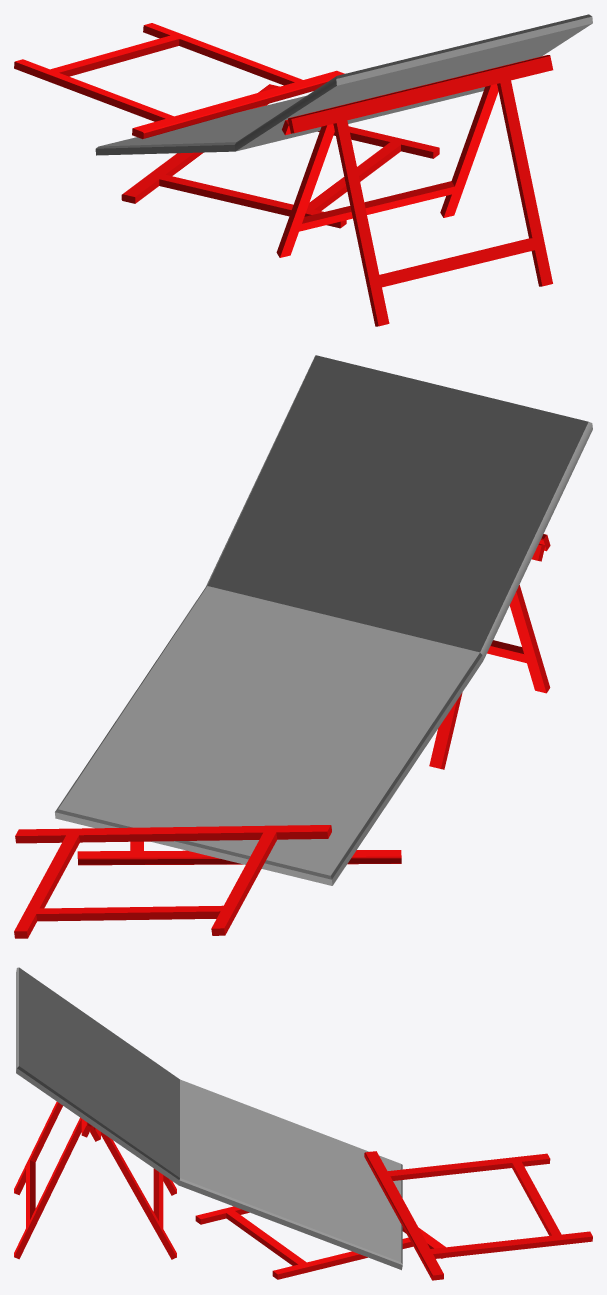
The model's file is FBX_TableCasse.fbx.
3 views of the same model, one above another, from view 1: azimuth 30°, elevation 25°; view 2: azimuth 150°, elevation 25°; view 3: azimuth 270°, elevation 25° (orthographic). The views are drawn at different scales.
Visible parts, largest first — view 1: Table; view 2: Table; view 3: Table.
Boxes of the visible parts, x1=… form: Table: x1=14, y1=14, x2=592, y2=326; Table: x1=14, y1=355, x2=592, y2=938; Table: x1=14, y1=967, x2=592, y2=1280.
Size of the model in its own units: 1.11 by 0.9619 by 2.4.
